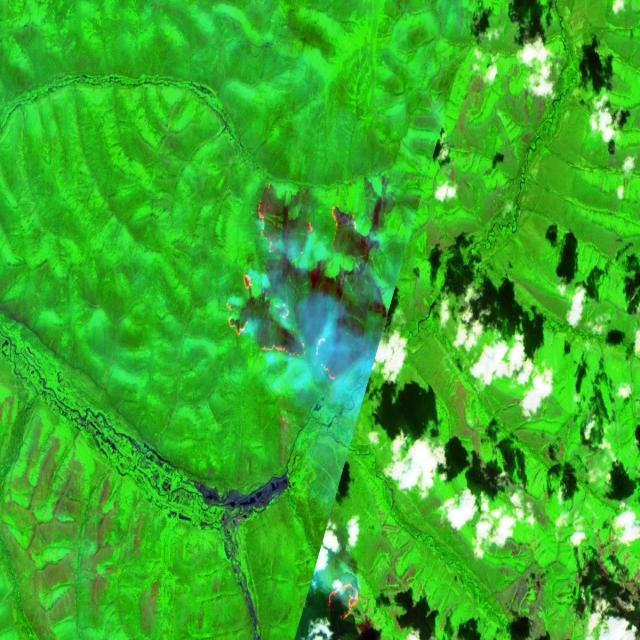fire: (222, 178, 383, 410), (321, 576, 364, 624)
